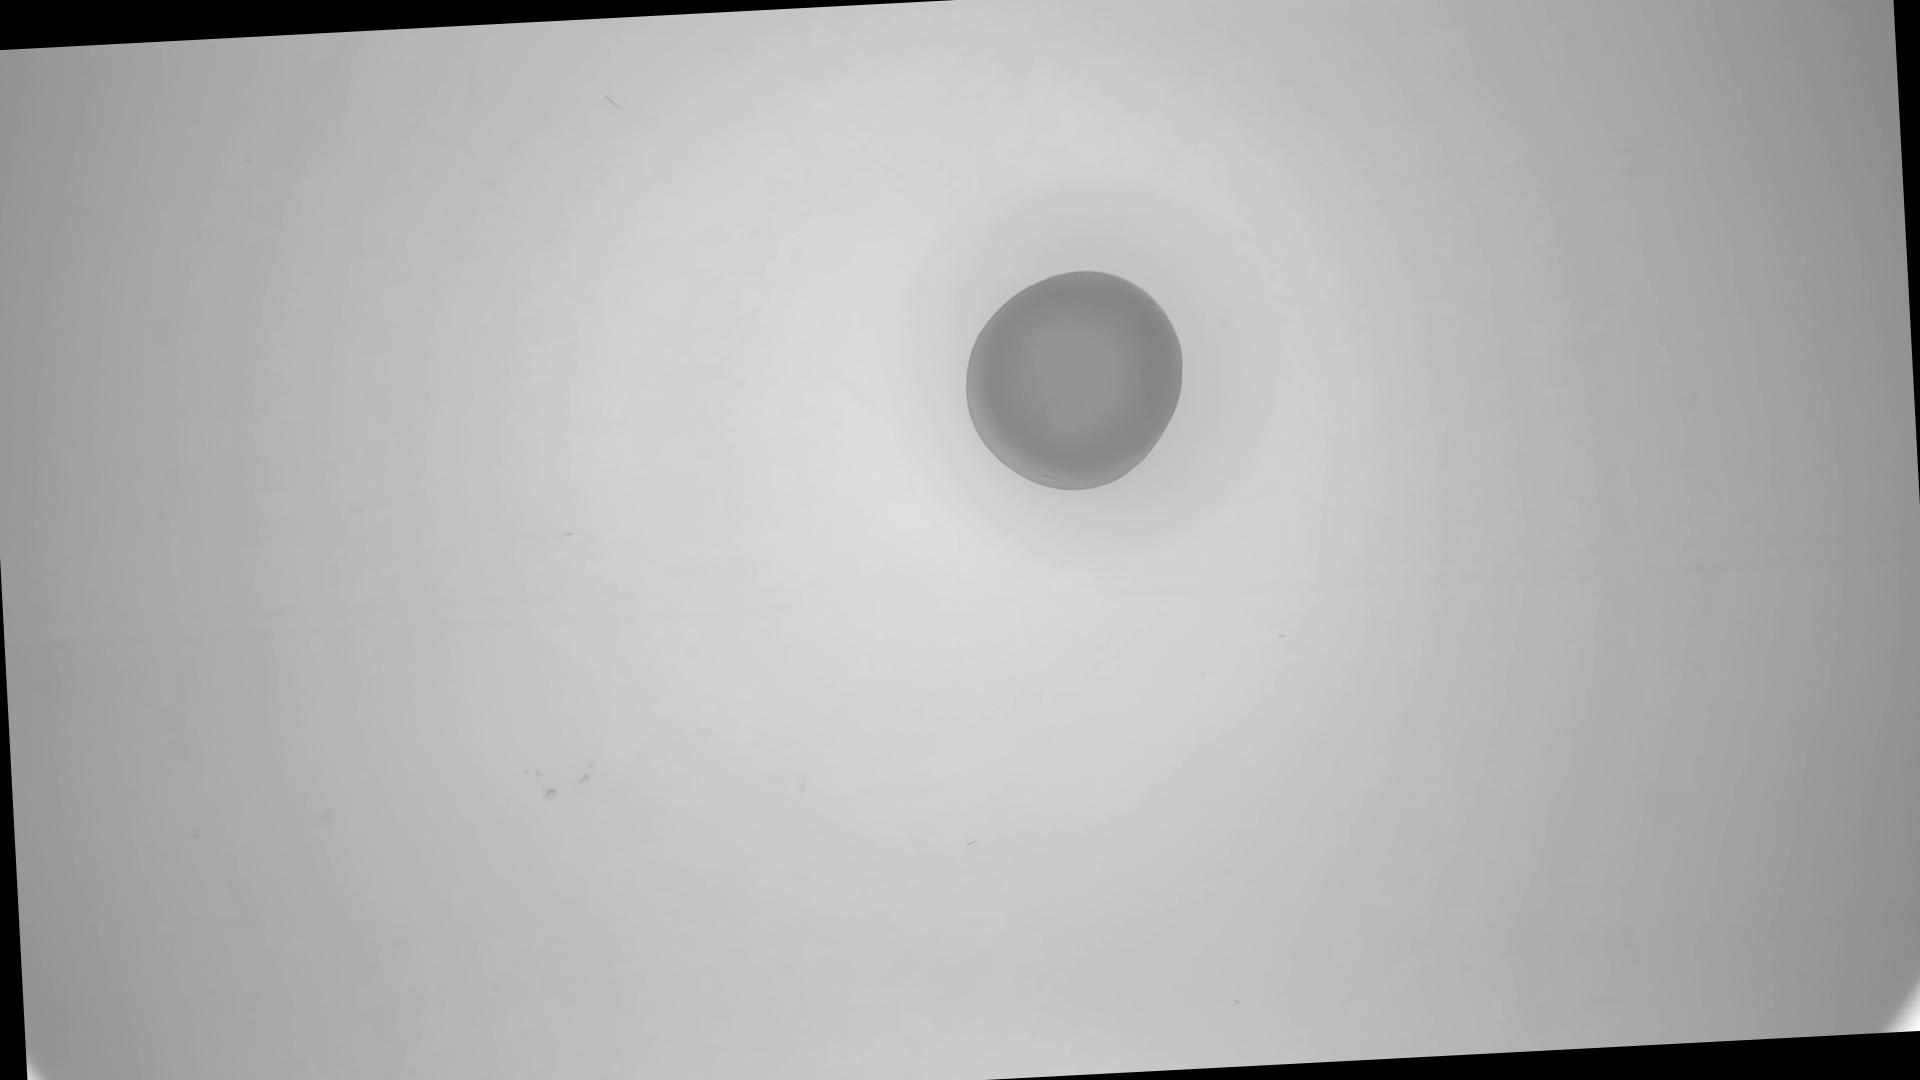normal: (957, 262, 1193, 501)
